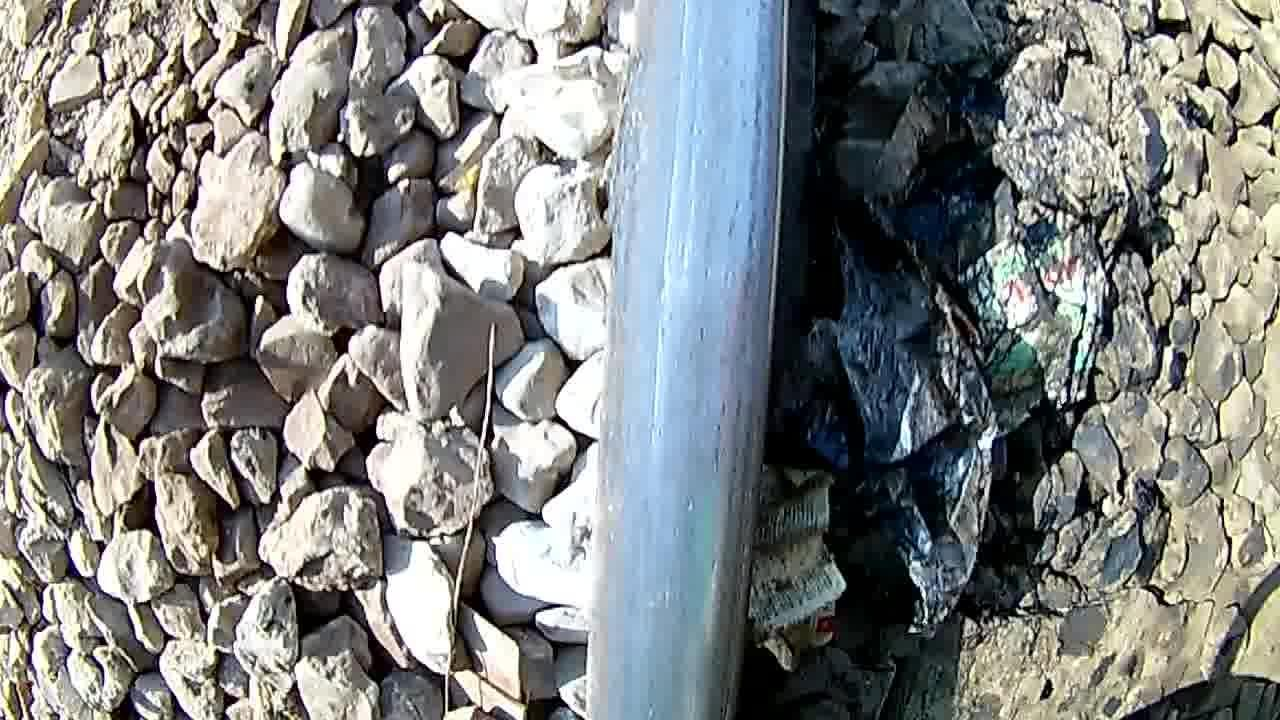crack: (594, 0, 798, 720)
